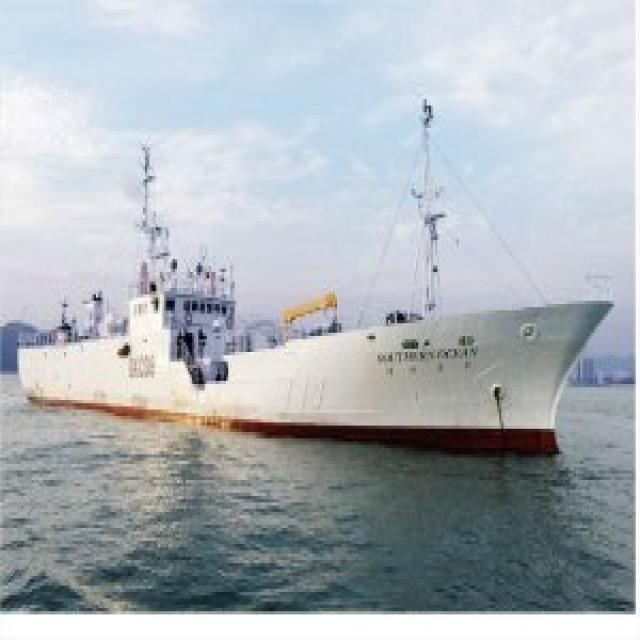Ship: (16, 94, 629, 478)
